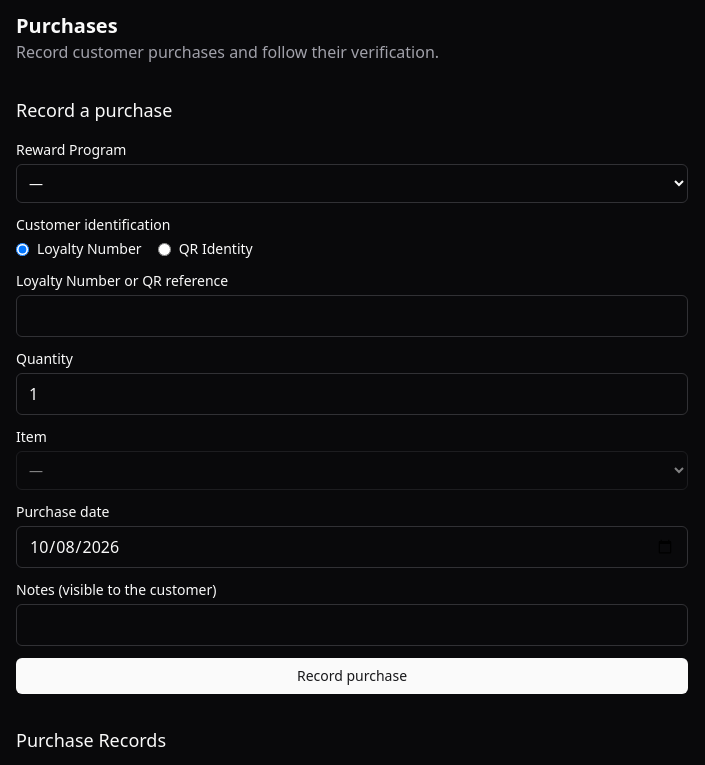
Scenario: PurchaseRecordsPage › confirms customer confirmation only when the server routed the Purchase to waiting_for_customer
Type "ABC234" into the field labelled "Loyalty Number or QR reference" at (352, 316), box [16,295,688,337]
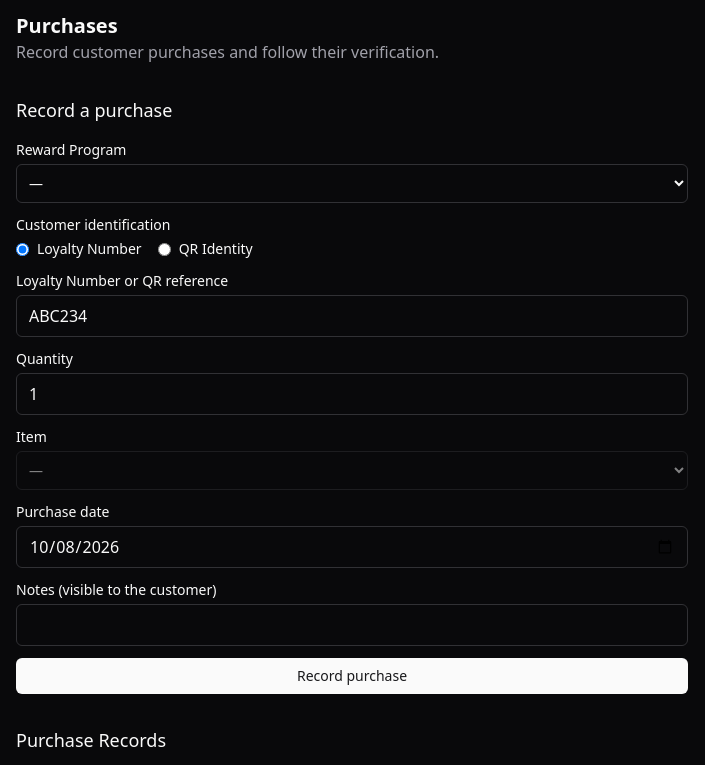
Select "Coffees" in the dropdown labelled "Reward Program" at (352, 184), box [16,164,688,203]
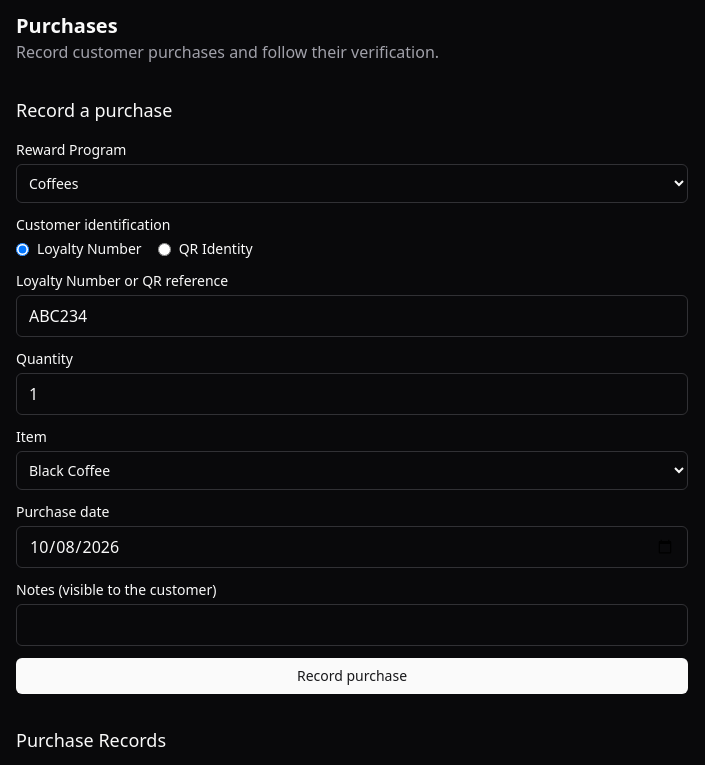
Click the button "Record purchase" at (352, 676), box [16,658,688,694]
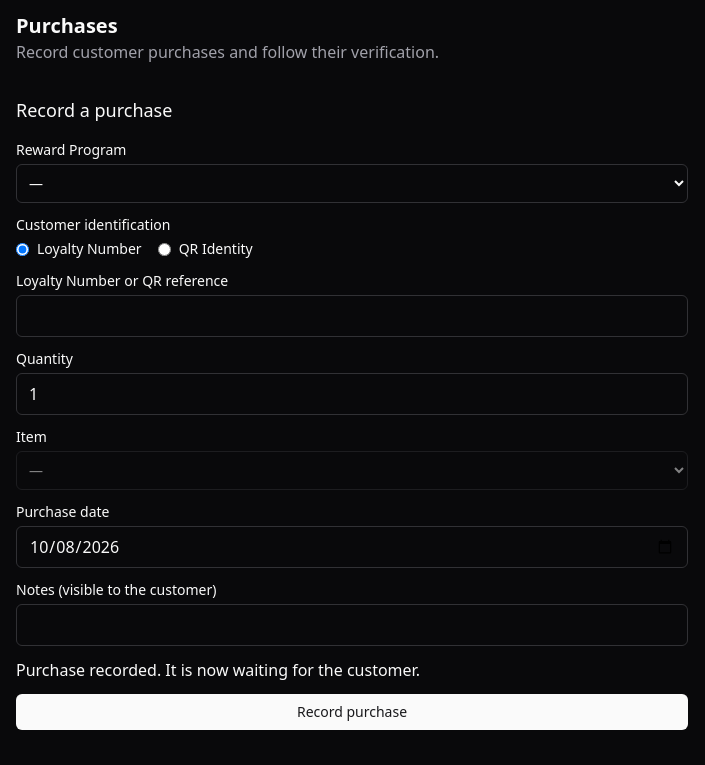
Result: the text "Purchase recorded. It is now waiting for the customer." is shown at [16,659,420,681]
